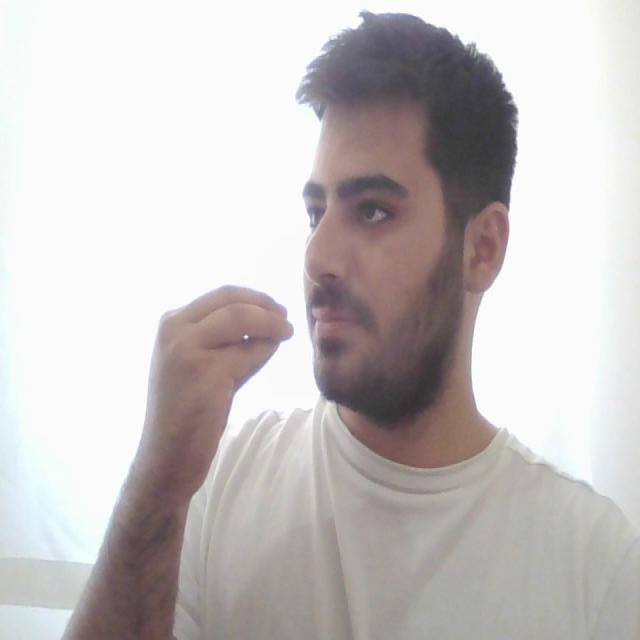Yemek: (157, 279, 366, 365)
